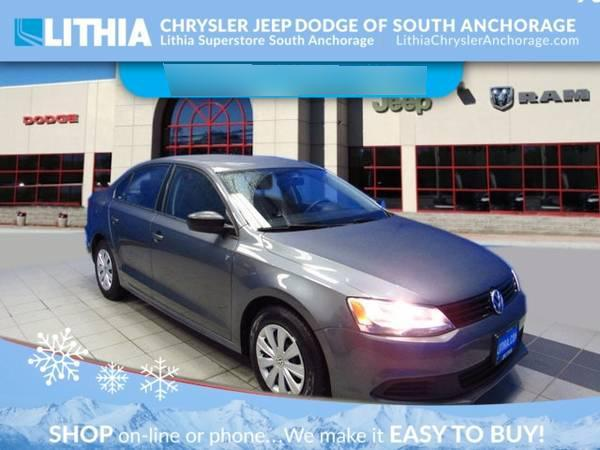Front_Bumper: (313, 288, 529, 416)
Front_Fender: (229, 227, 367, 353)
Front_Right_Door: (153, 214, 241, 349)
Front_Right_Window: (159, 163, 238, 241)
Front_Windshield: (222, 166, 394, 229)
Grille: (435, 268, 519, 328)
Hood: (257, 214, 508, 302)
Rear_Fender: (85, 192, 112, 255)
Rear_Right_Door: (108, 199, 159, 304)
Rear_Right_Window: (113, 164, 174, 213)
Right_Headlight: (343, 295, 452, 337)
Roof: (101, 150, 326, 232)
Wheel: (247, 306, 325, 406), (91, 242, 120, 296)
